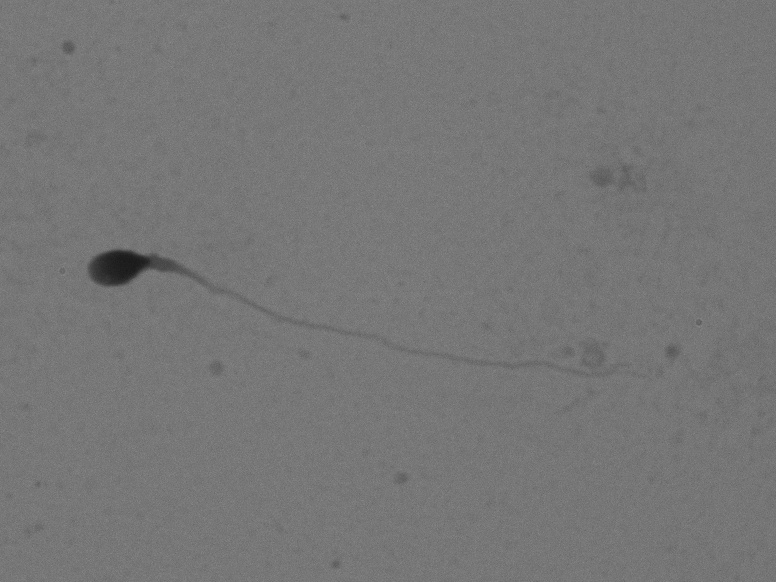Abnormal: (55, 213, 697, 417)
